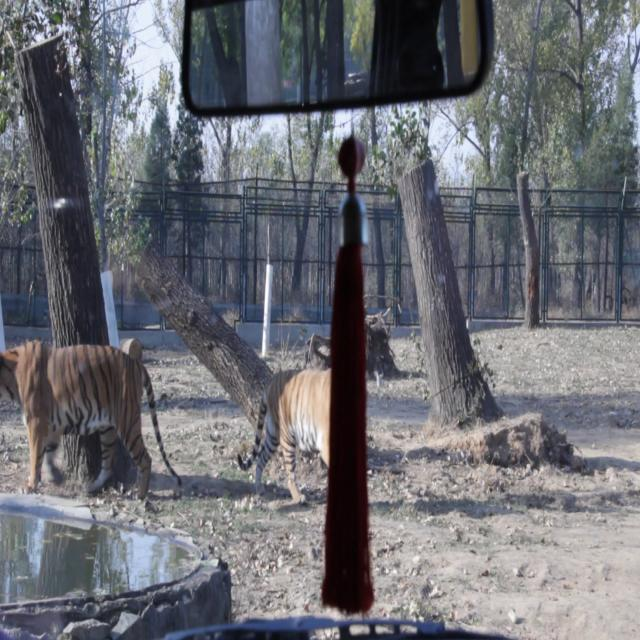Tiger: (0, 327, 183, 494), (244, 358, 337, 495)
